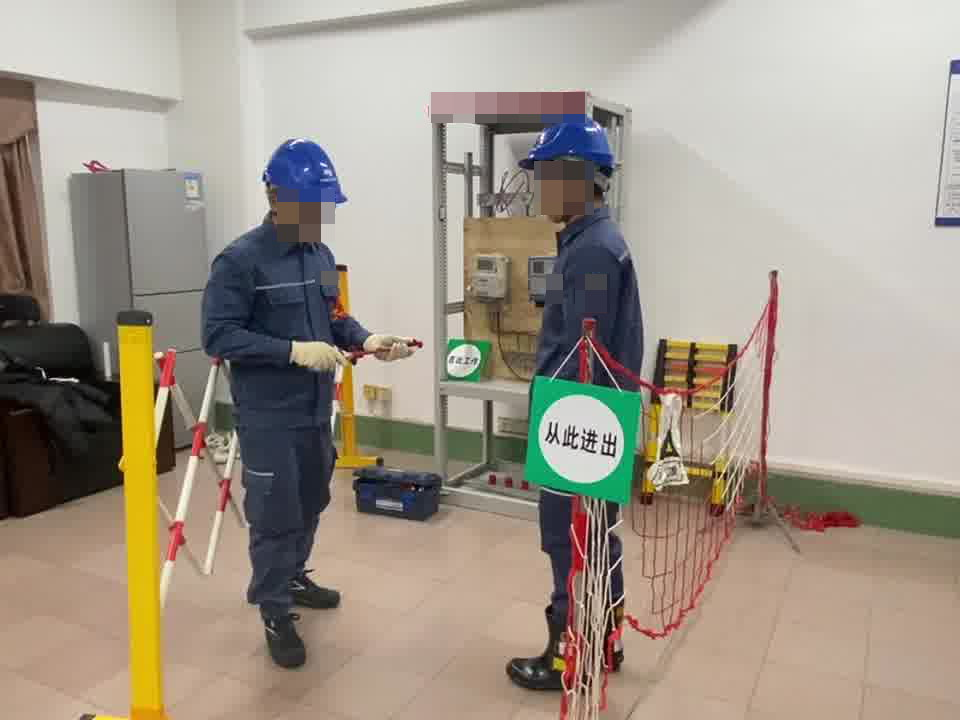downsuit: (234, 428, 339, 612), (536, 511, 625, 680)
halt: (519, 115, 618, 224), (261, 139, 347, 242)
inear: (263, 187, 297, 225), (563, 164, 592, 204)
intosign: (527, 373, 635, 505)
person: (201, 135, 375, 665), (507, 111, 654, 696)
shoe: (503, 597, 626, 687)
sleeve: (576, 276, 600, 306)
testrod: (322, 333, 427, 373)
upsuit: (204, 226, 364, 416), (535, 212, 650, 385)
wglove: (290, 341, 350, 373), (367, 332, 418, 369)
worksign: (444, 337, 492, 380)
